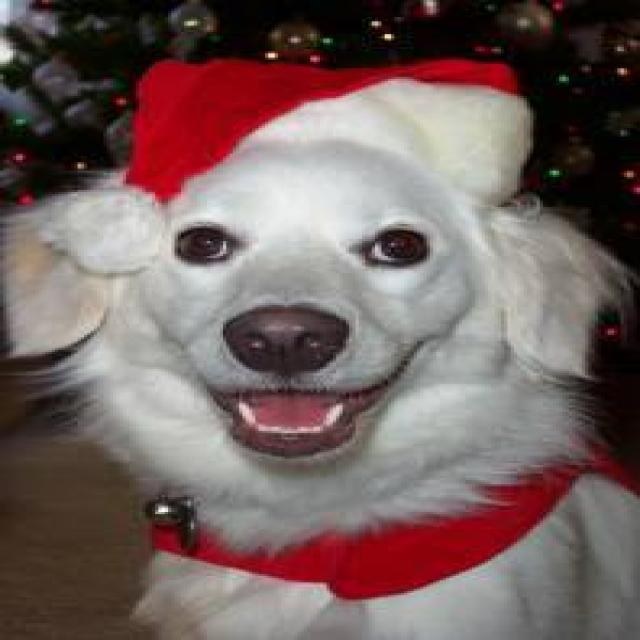dogs: (2, 79, 624, 640)
